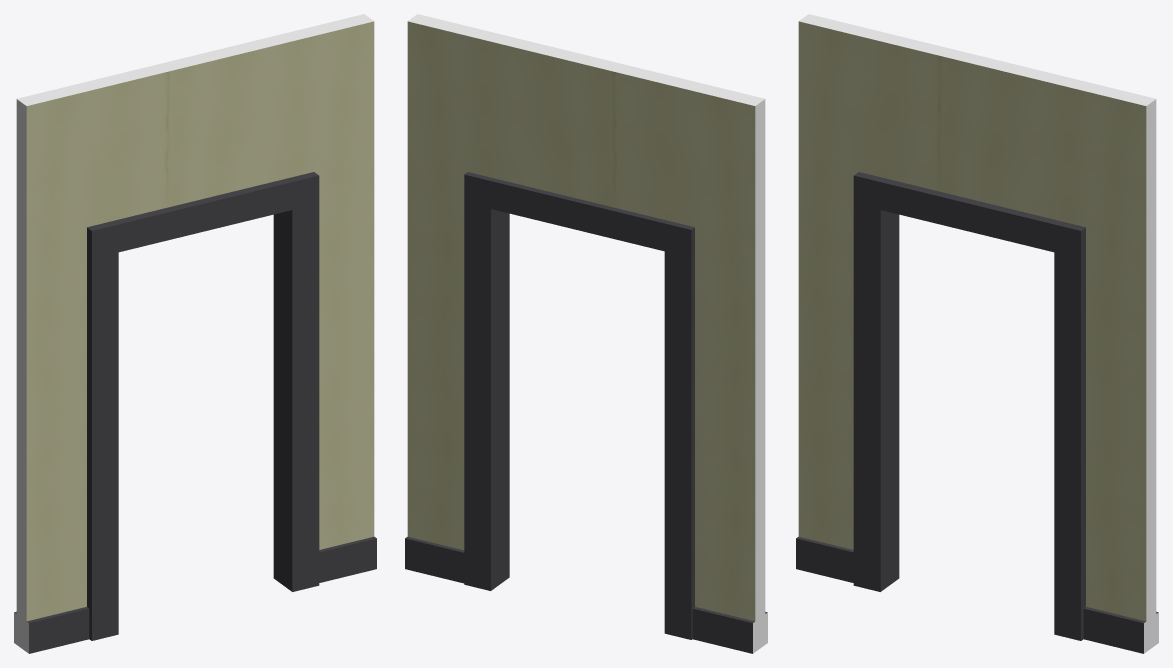
Rendered from SM_Buildings_WallDoor_2x3_01_DoubleWallpaper.fbx.
3 views of the same model, side by side, from view 1: azimuth 30°, elevation 25°; view 2: azimuth 150°, elevation 25°; view 3: azimuth 330°, elevation 25° (orthographic).
Parts seen in each view (by area): view 1: SM_Buildings_WallDoor_2x3_01_DoubleWallpaper; view 2: SM_Buildings_WallDoor_2x3_01_DoubleWallpaper; view 3: SM_Buildings_WallDoor_2x3_01_DoubleWallpaper.
Boxes of the visible parts, x1=… form: SM_Buildings_WallDoor_2x3_01_DoubleWallpaper: x1=14, y1=14, x2=376, y2=653; SM_Buildings_WallDoor_2x3_01_DoubleWallpaper: x1=405, y1=14, x2=767, y2=653; SM_Buildings_WallDoor_2x3_01_DoubleWallpaper: x1=796, y1=14, x2=1158, y2=653.
Bounding box in the file's own units: 200 × 300 × 18.64.
1 material, 1 textured.
